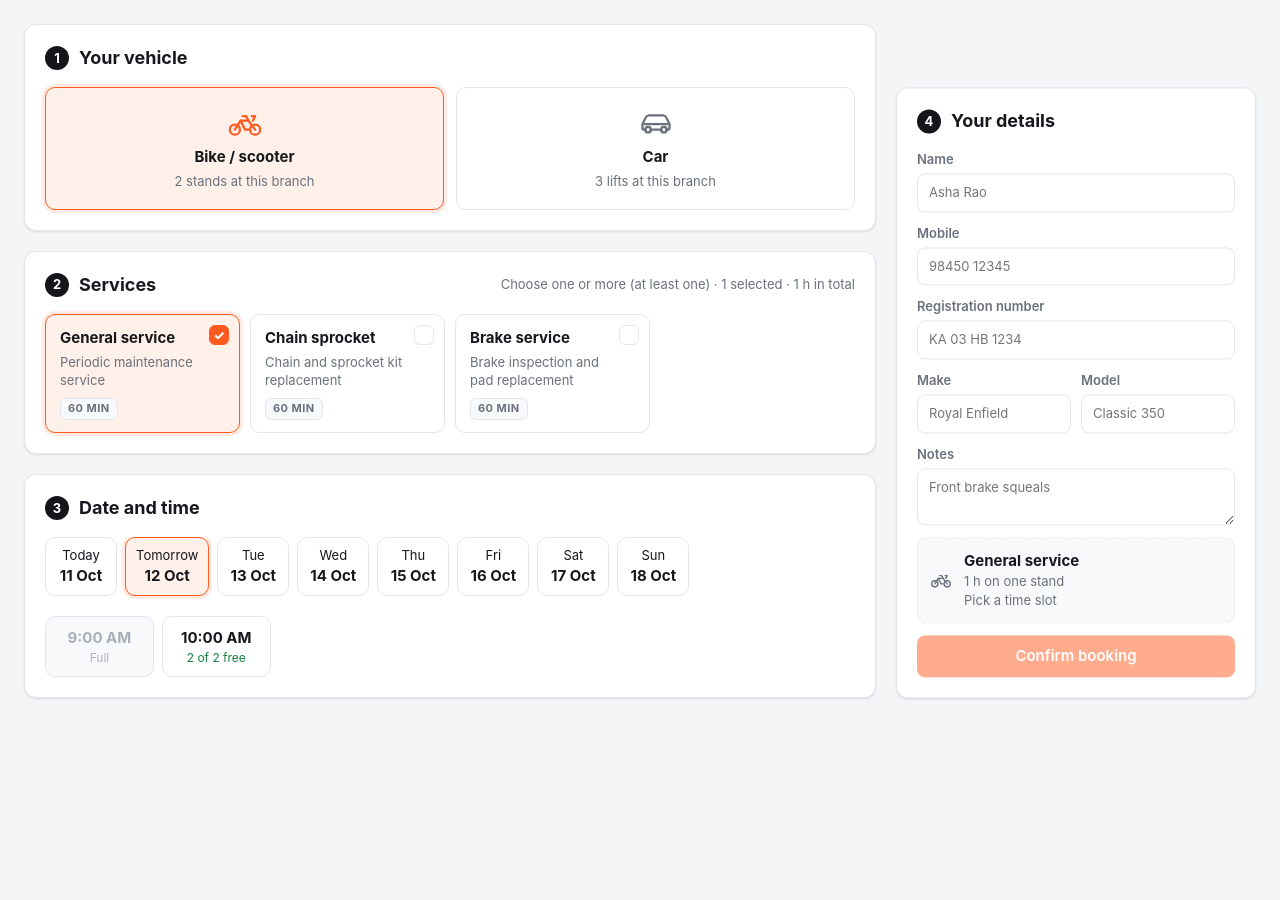
BookPage › lets the customer combine services and shows the total time
Click the checkbox labelled "Brake service Brake inspection and pad replacement 60 min". click: {"x": 552, "y": 374}
box: [455, 314, 650, 433]
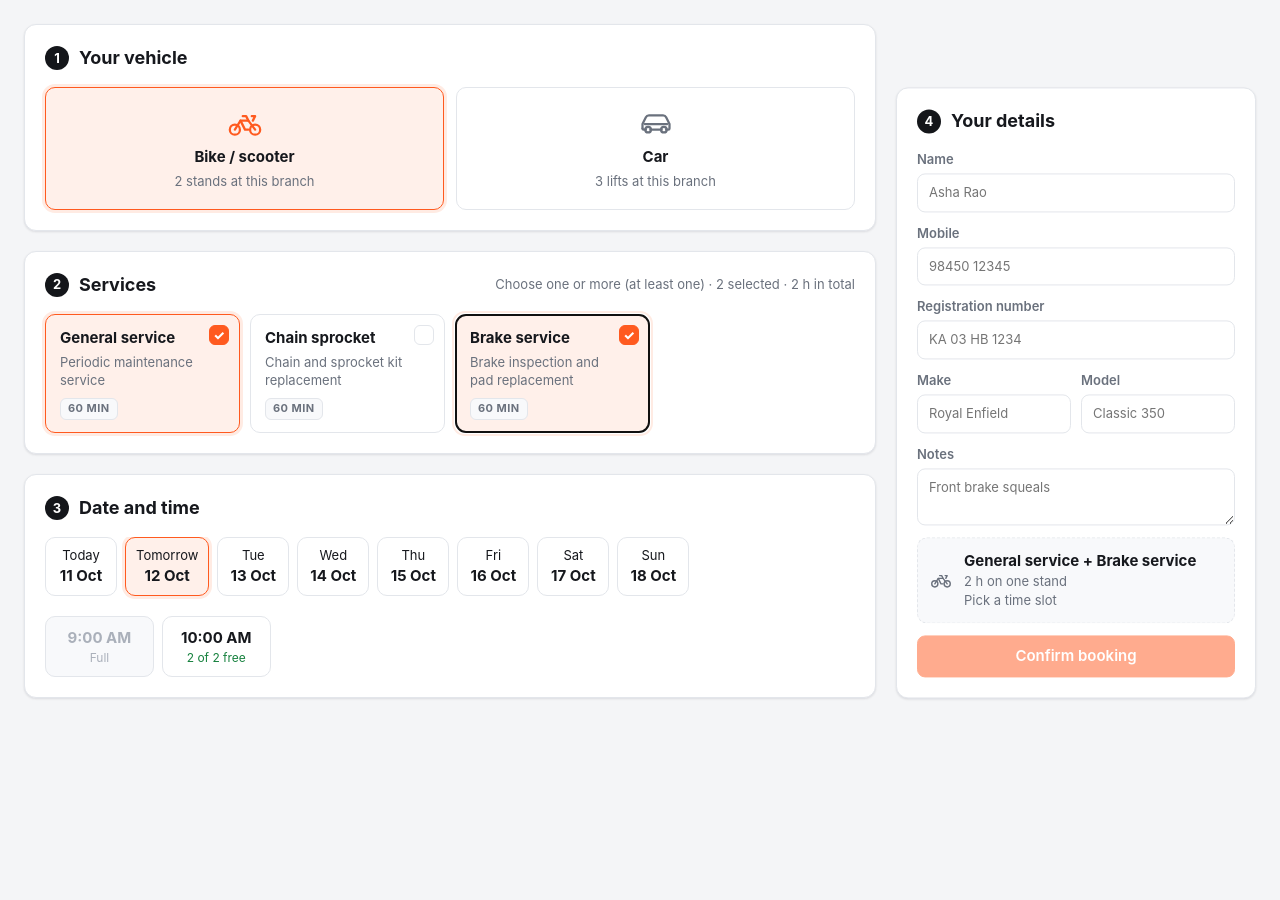
Check: the text "2 selected · 2 h in total" is shown, box [495, 275, 855, 294]
Check: the text "General service + Brake service" is shown, box [964, 552, 1196, 571]
